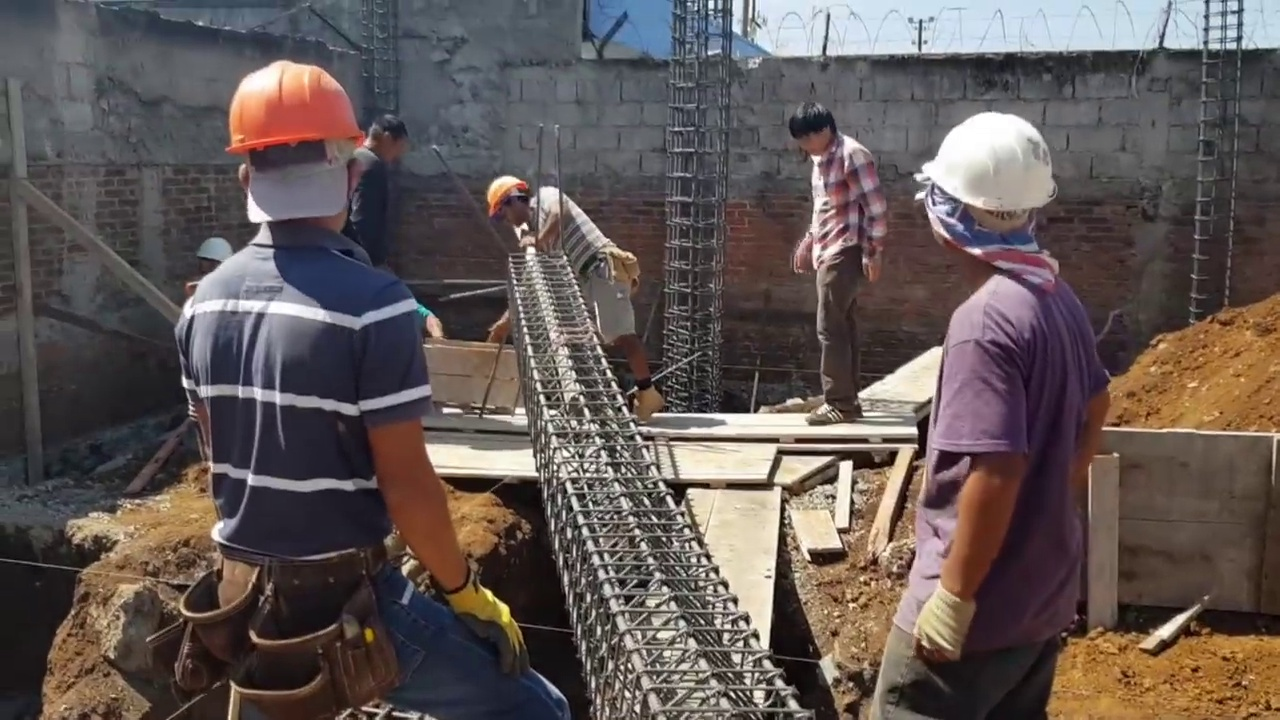helmet: (222, 71, 364, 176), (931, 111, 1062, 216), (485, 174, 528, 215), (198, 237, 233, 263)
helmet-off: (788, 102, 843, 158), (362, 108, 407, 156)
helmet-on: (223, 53, 368, 247), (913, 116, 1062, 297), (487, 174, 532, 230), (198, 234, 236, 278)
person: (175, 50, 529, 720), (879, 102, 1106, 720), (484, 169, 663, 423), (787, 92, 894, 443), (343, 105, 411, 266)
